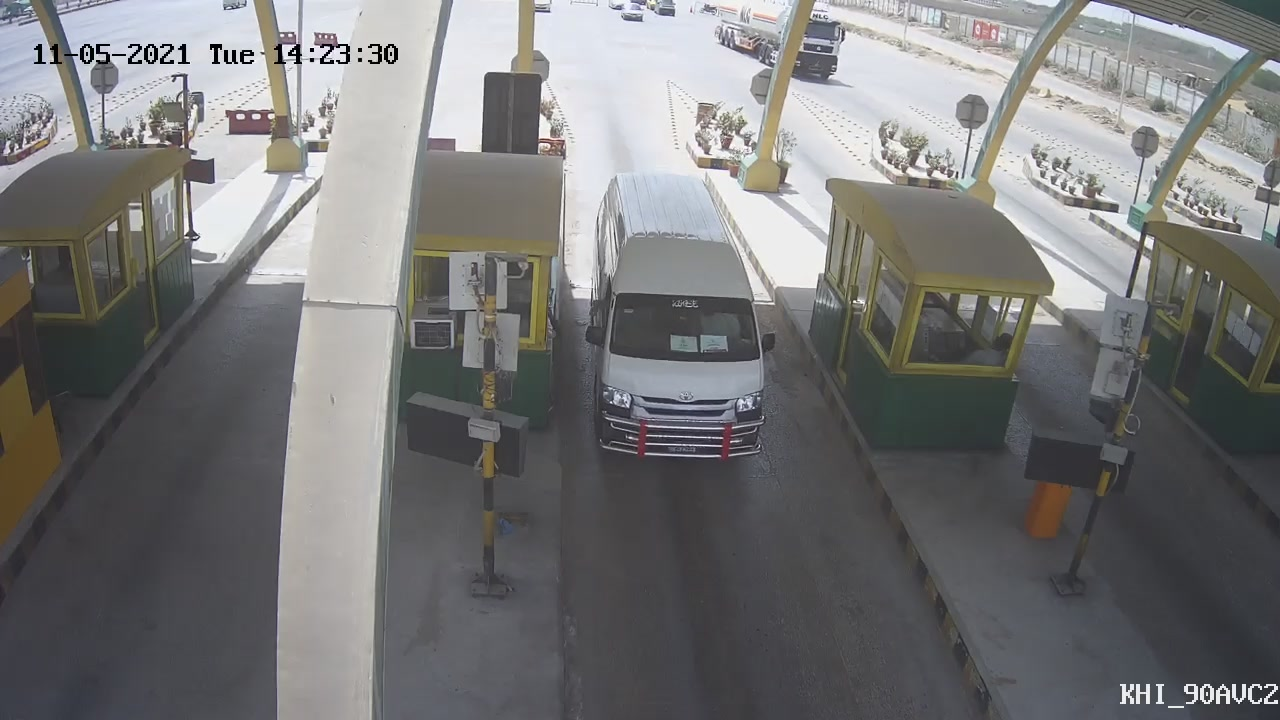F2: (584, 160, 780, 479)
